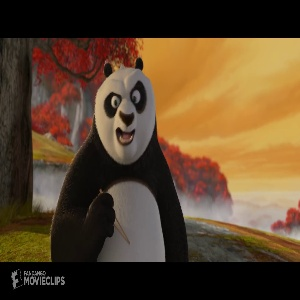po: (47, 55, 190, 262)
